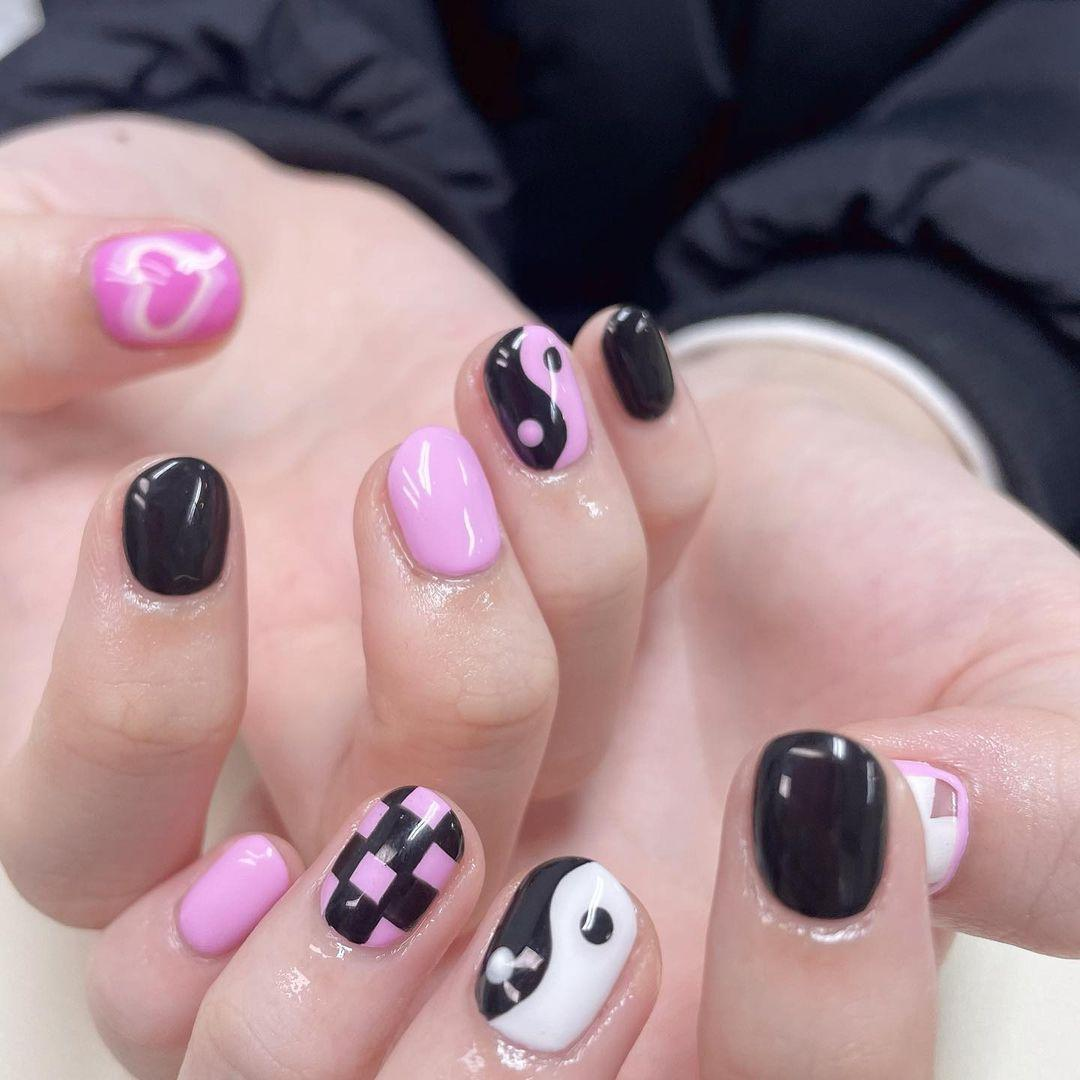nail: (473, 853, 640, 1055), (751, 728, 888, 921), (317, 783, 465, 950), (87, 226, 242, 350), (385, 424, 502, 578), (481, 322, 589, 472), (120, 454, 230, 597), (174, 831, 294, 958), (890, 756, 970, 898), (600, 303, 675, 421)
